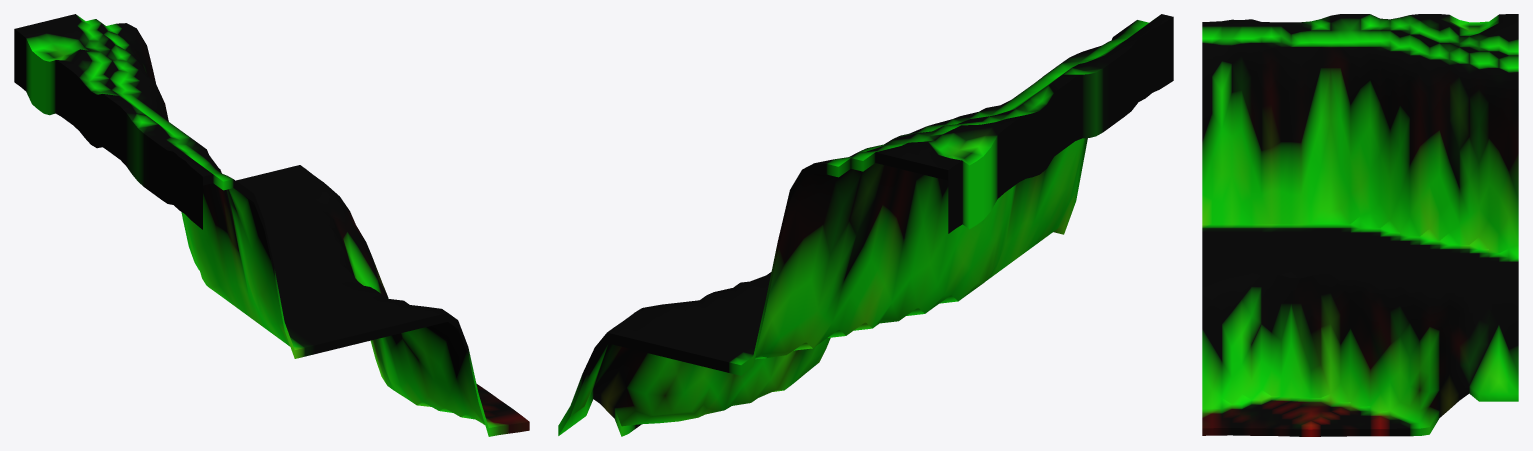
Rendered from Terrain_03_07.fbx.
3 views of the same model, side by side, from view 1: azimuth 30°, elevation 25°; view 2: azimuth 150°, elevation 25°; view 3: azimuth 270°, elevation 25° (orthographic). The views are drawn at different scales.
Parts seen in each view (by area): view 1: Terrain_03_07_LOD0; view 2: Terrain_03_07_LOD0; view 3: Terrain_03_07_LOD0.
Part boxes in pixels (x1,y1,x2,y2): Terrain_03_07_LOD0: [14, 14, 529, 436]; Terrain_03_07_LOD0: [558, 14, 1173, 436]; Terrain_03_07_LOD0: [1202, 14, 1518, 436].
Size of what is drawn, in the model's own units: 384 by 387 by 384.
